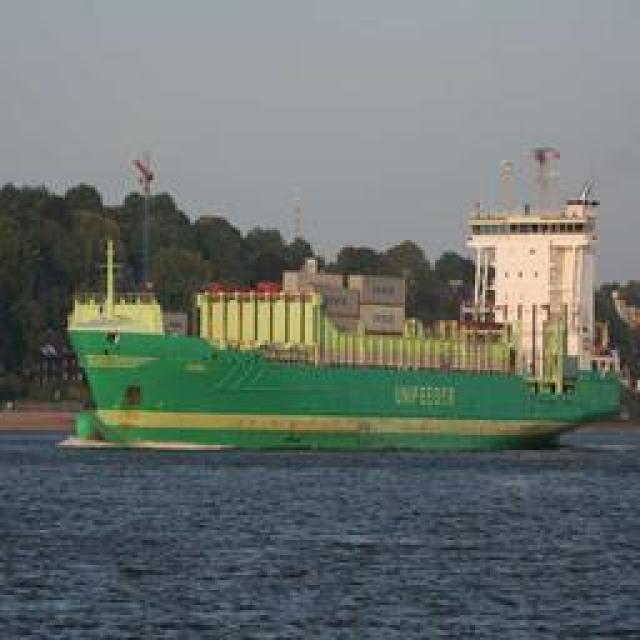ship2: (58, 140, 623, 452)
